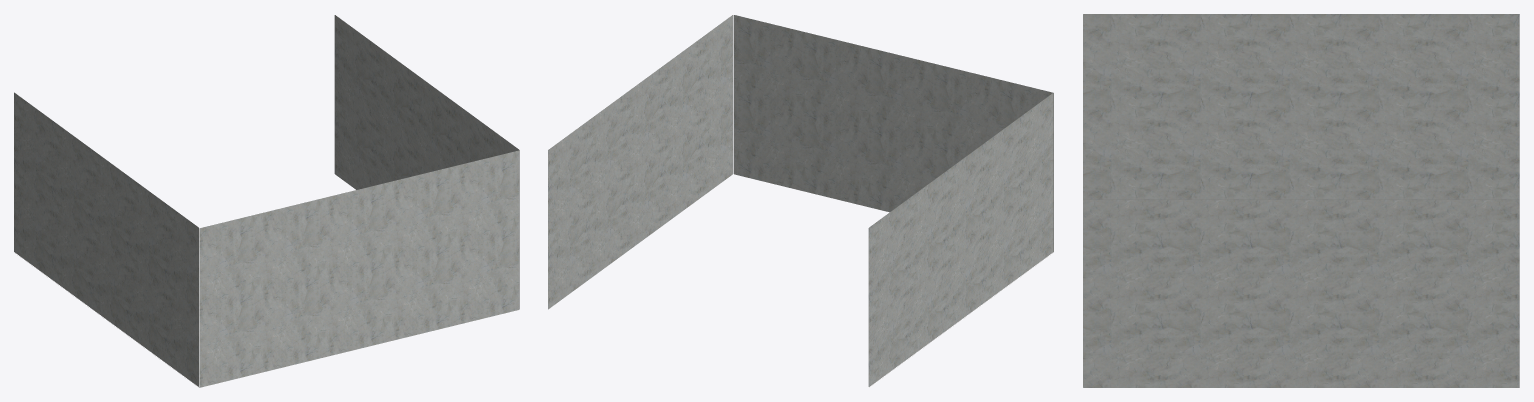
Rendered from walls.fbx.
The picture shows the model from 3 angles, left to right: view 1: azimuth 30°, elevation 25°; view 2: azimuth 150°, elevation 25°; view 3: azimuth 270°, elevation 25°; orthographic projection. The views are drawn at different scales.
Visible parts, largest first — view 1: Cube; view 2: Cube; view 3: Cube.
Boxes of the visible parts, box(x1,y1,x2,y2) form: Cube: box(14, 15, 519, 387); Cube: box(548, 15, 1053, 386); Cube: box(1083, 14, 1519, 387).
Bounding box in the file's own units: 6762 × 3227 × 6762.
Materials: 1 (1 with a texture image).
